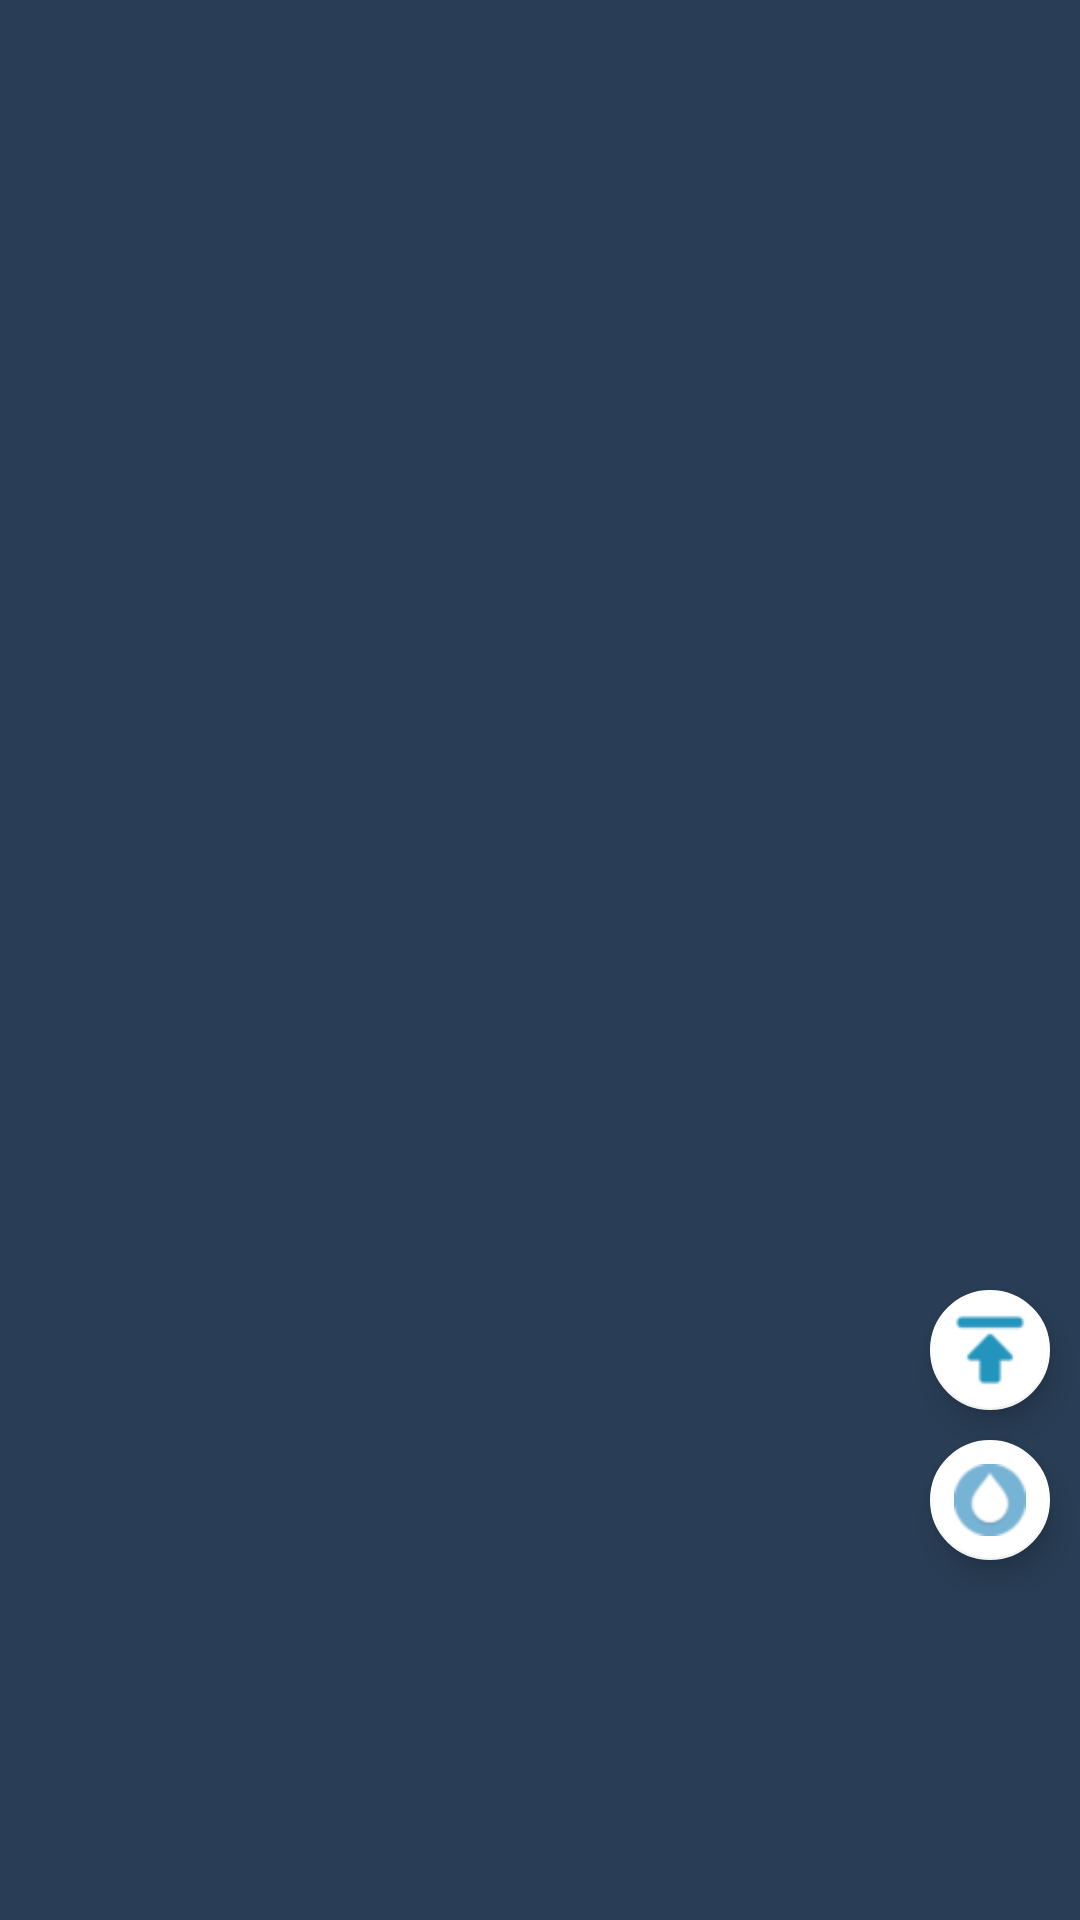

Screen size 1080 × 1920. Icon name, then its box in pixels as (x1, y1, x2, y2):
up arrow: (930, 1290, 1050, 1410)
water locate: (930, 1440, 1050, 1560)
